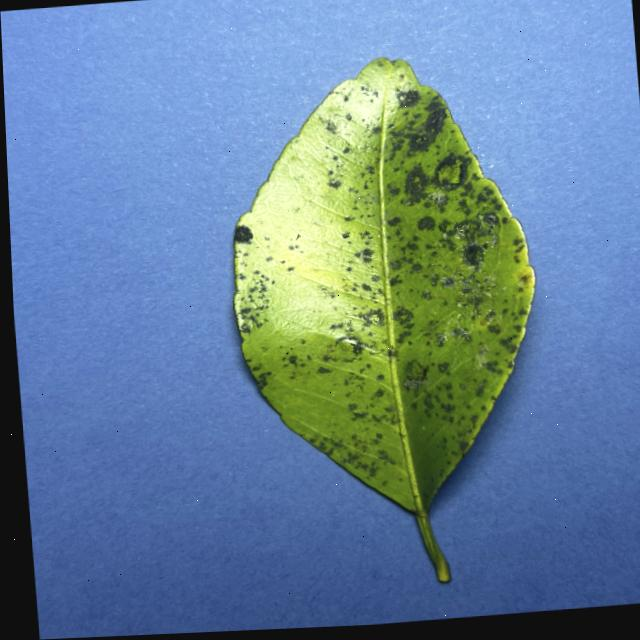sooty_mold: (233, 57, 534, 470)
